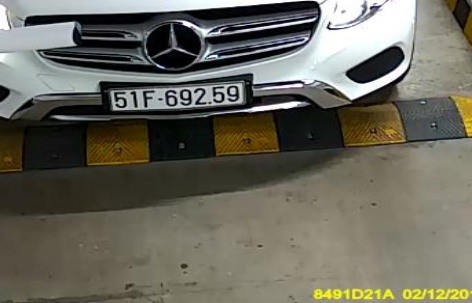plate: (103, 81, 247, 112)
